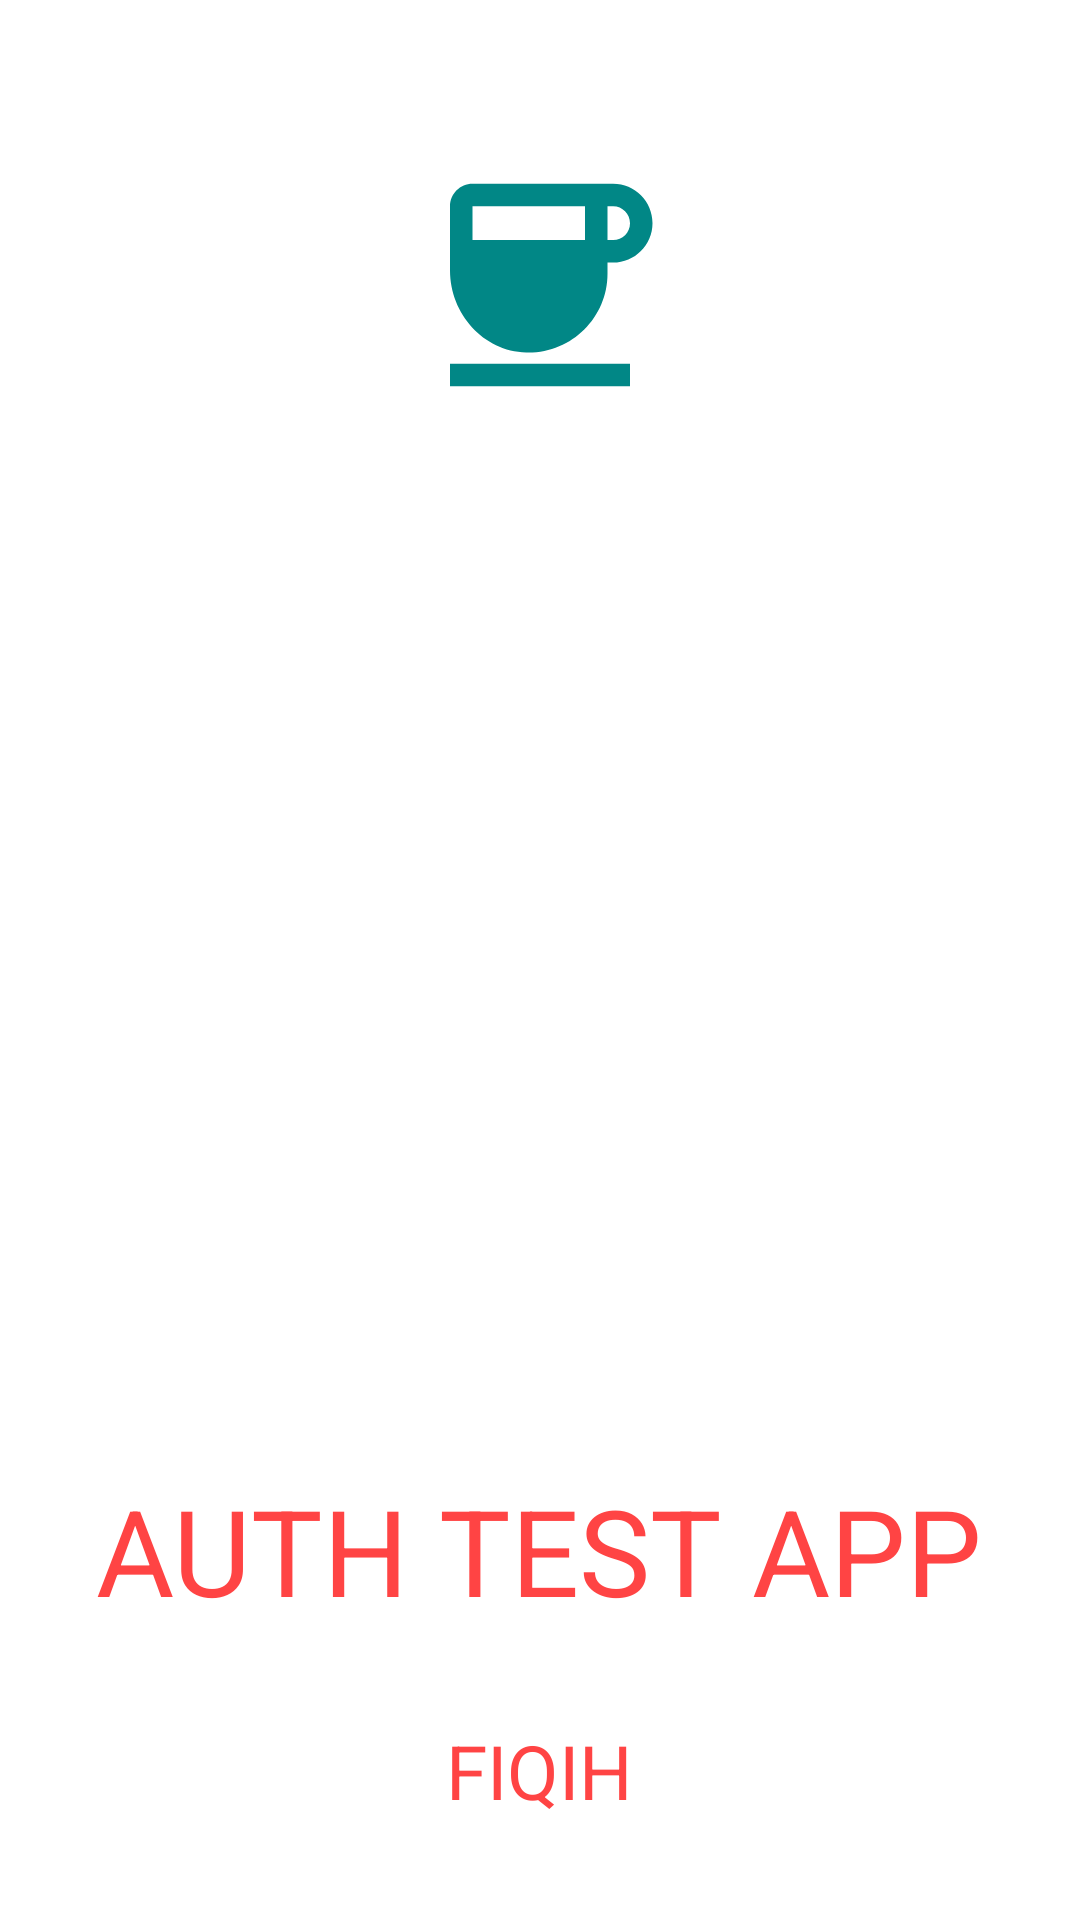

Icon click points for this 1080w x 1920h phone screenshot, format (x=x, y=y):
coffee: (x=551, y=285)
